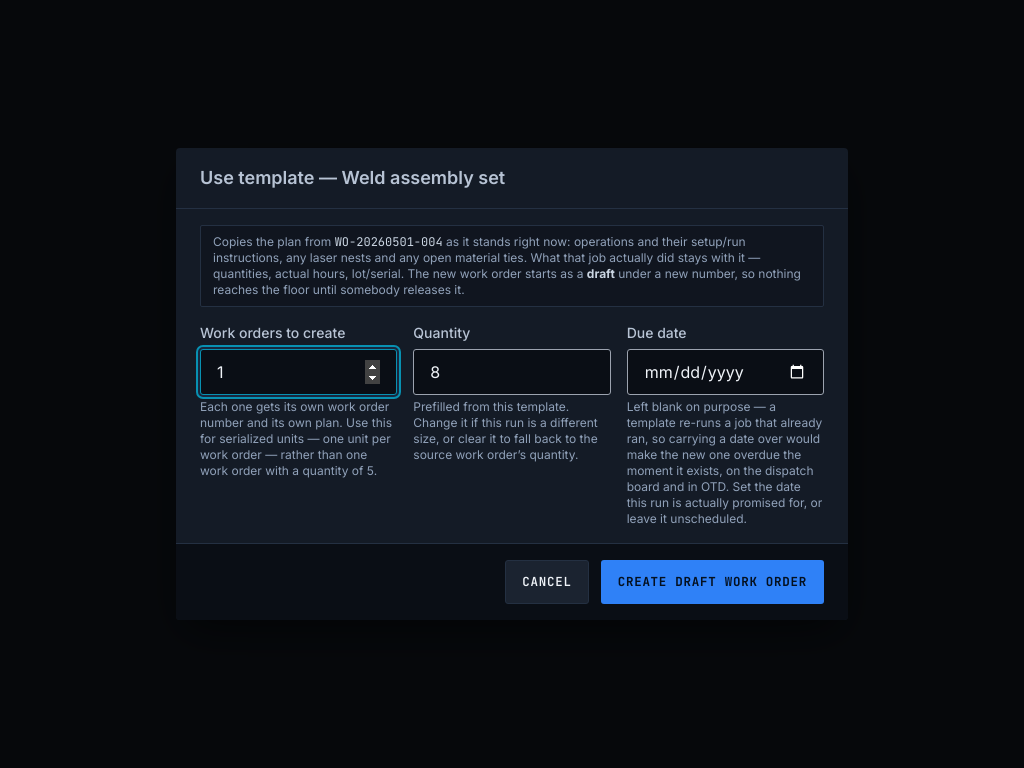
Test: UseTemplateModal: how many work orders › blocks a count above the cap with its own message, and issues NO request
The image size is (1024, 768).
Replace the text in the number field labelled "Work orders to create" with "25" at (299, 372), box x1=200 y1=349 x2=397 y2=395
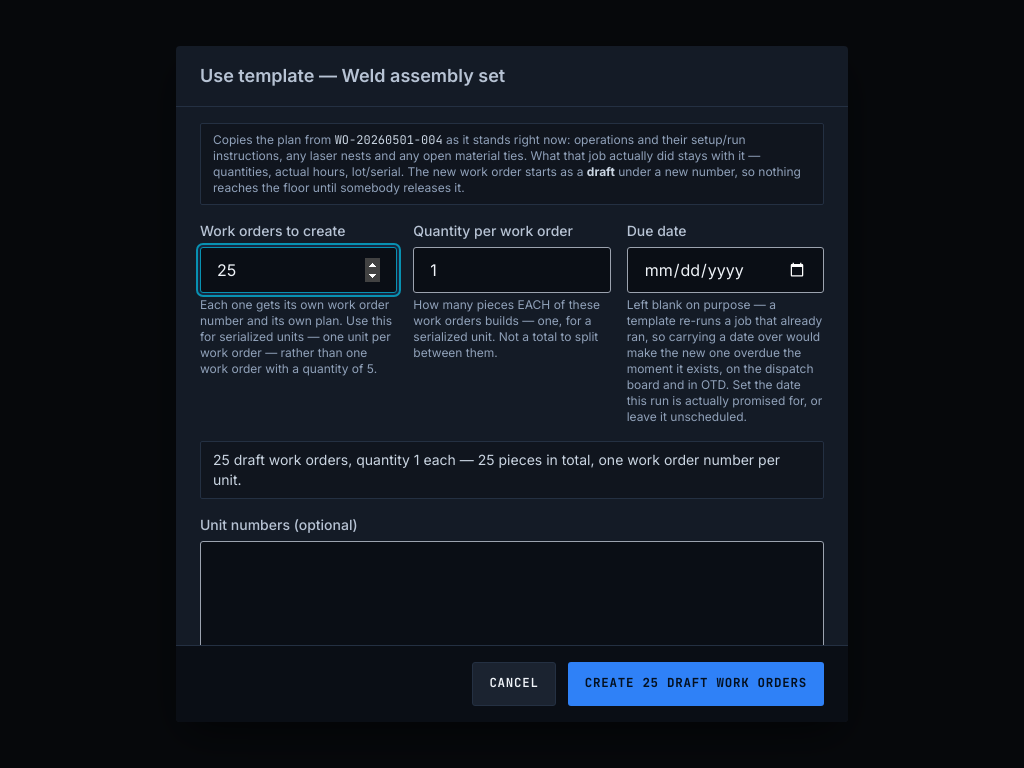
Click the button "Create 25 draft work orders" at (696, 684), box x1=568 y1=662 x2=824 y2=706
(page scrolled)
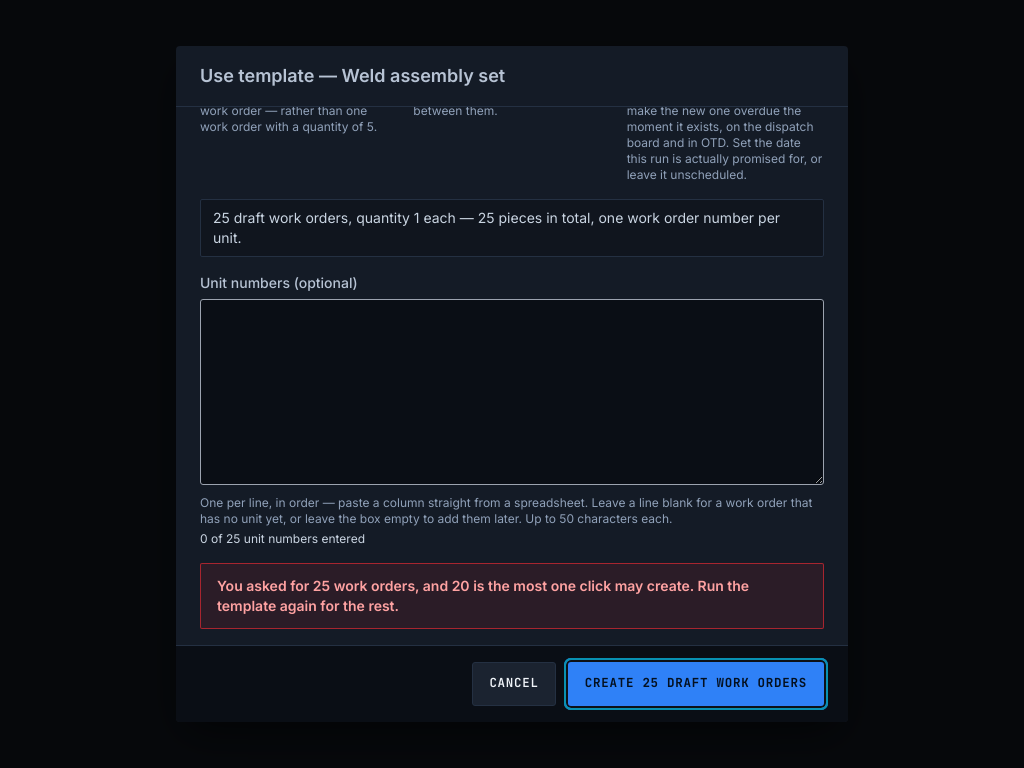
Now the message with test id "use-template-error" shows "You asked for 25 work orders, and 20 is the most one click may create. Run the template again for the rest.", box x1=217 y1=577 x2=749 y2=614
